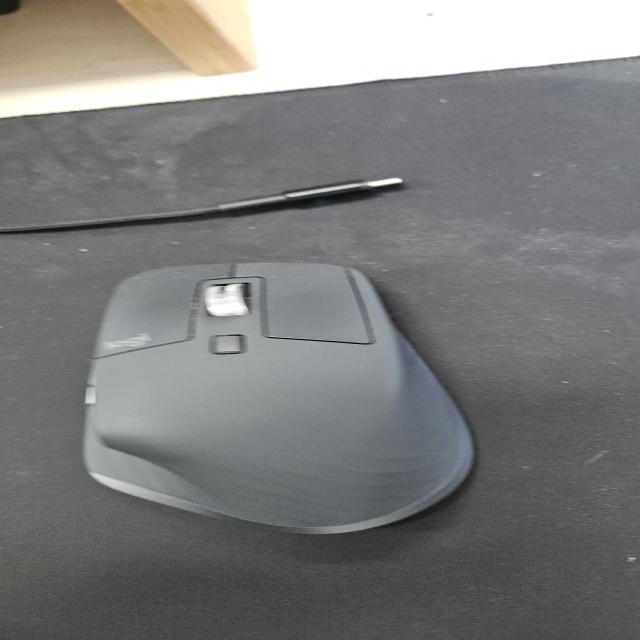Mouse: (79, 260, 478, 535)
